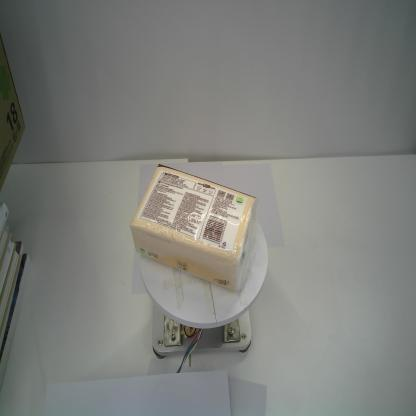Tissue: (129, 165, 259, 294)
